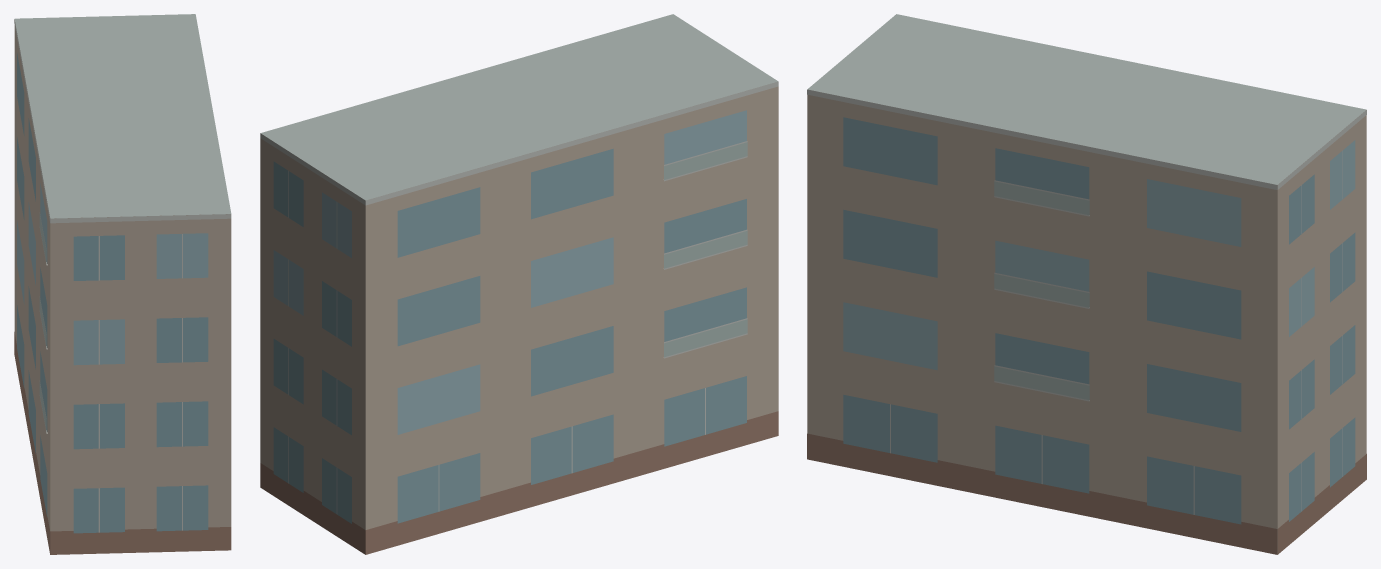
Rendered from survey-upis-32524641.glb.
3 renders of one model, left to right at view 1: azimuth 30°, elevation 25°; view 2: azimuth 150°, elevation 25°; view 3: azimuth 270°, elevation 25°, orthographic. The views are drawn at different scales.
Visible parts, largest first — view 1: survey-upis-32524641.tmp; view 2: survey-upis-32524641.tmp; view 3: survey-upis-32524641.tmp.
Boxes of the visible parts, box(x1,y1,x2,y2) form: survey-upis-32524641.tmp: box(14, 14, 231, 554); survey-upis-32524641.tmp: box(260, 14, 778, 554); survey-upis-32524641.tmp: box(807, 14, 1366, 554).
Size of the model in its own units: 17.21 by 17.35 by 23.8.
